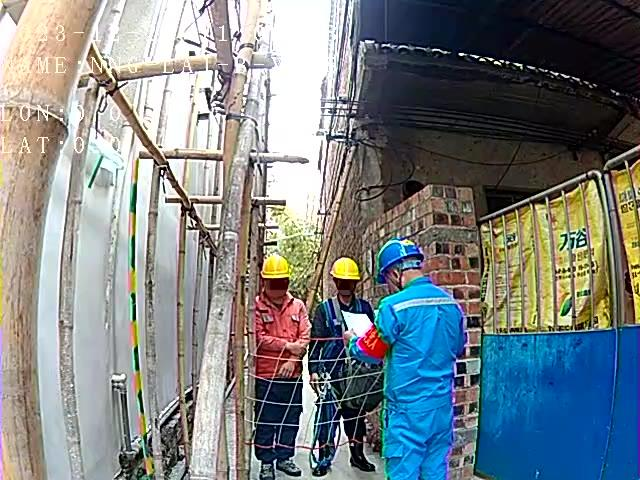halt: (380, 243, 429, 286), (262, 257, 296, 301), (332, 259, 364, 301)
inear: (386, 266, 407, 289)
